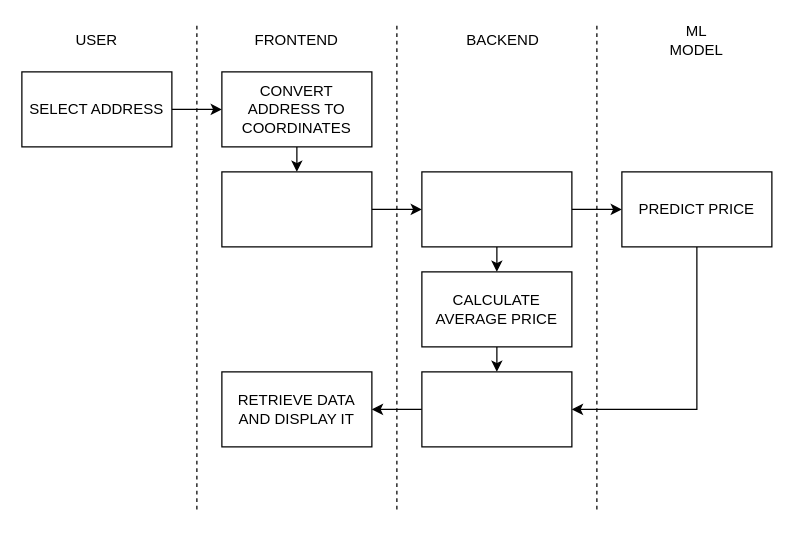
Image size: 794x533. Some labels were removed from this diagram. The shapes that lost their labels are listed below. From the top down, each one's centre as x and y in pixels, then its label:
At (x=296, y=209): "SEND COORDINATES TO BACKEND".
At (x=496, y=209): "TRIGGER ML MODEL".
At (x=496, y=409): "EXPOSE PREDICTED PRICE, REAL PRICE AND CHART VIA API".
